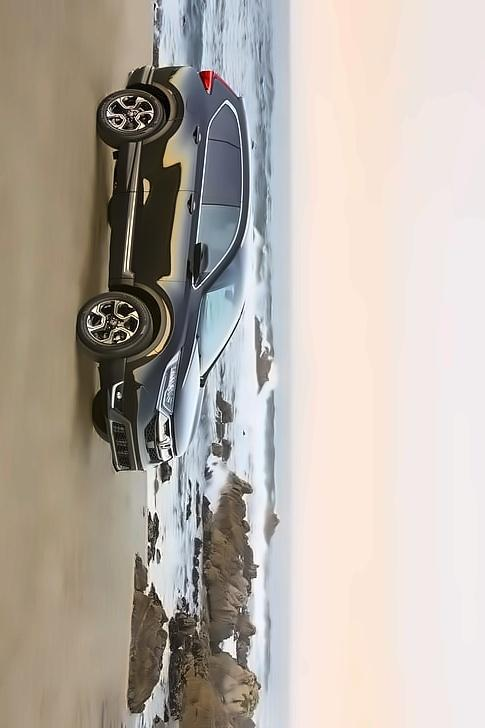Car hood: (169, 306, 206, 456)
Driver-s door - -F-R-: (96, 189, 256, 301)
Fender - -F-R-: (79, 263, 208, 356)
Fender - -R-R-: (115, 77, 244, 153)
Front bumper: (100, 353, 166, 477)
Headlight - -R-: (156, 343, 183, 416)
Passenger-s door - -R-R-: (111, 125, 261, 216)
Rear light - -R-: (197, 68, 217, 95)
Side bumper - -R-: (98, 133, 154, 295)
Side mirror - -R-: (181, 238, 211, 287)
